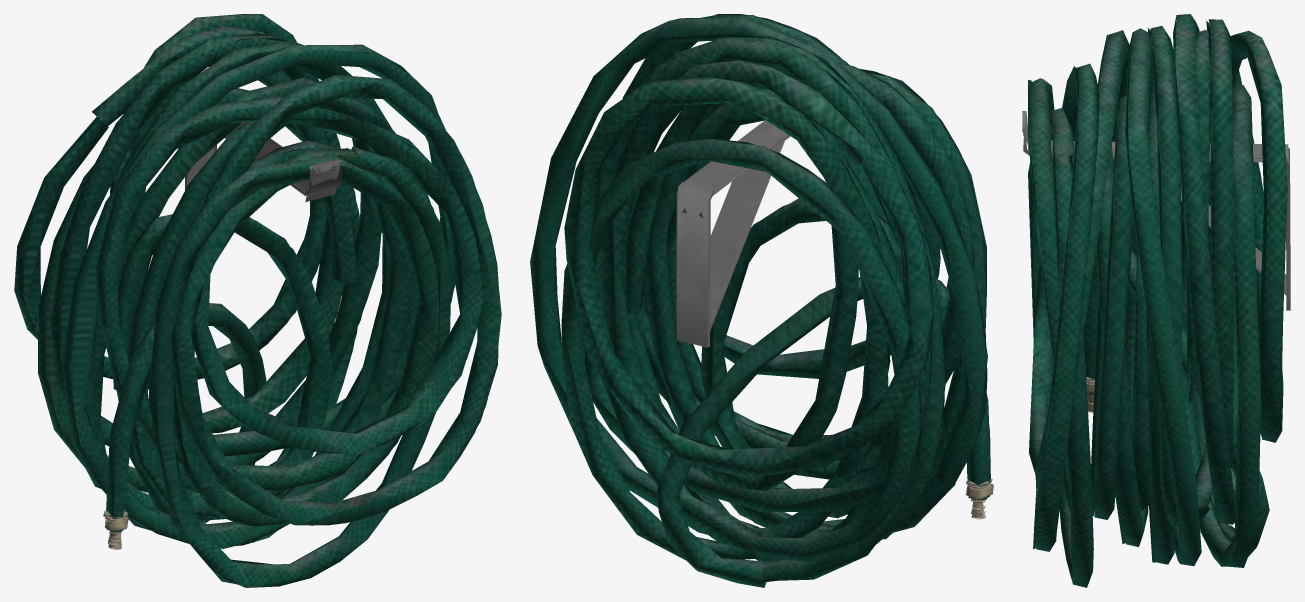
Rendered from garden_hose_wall_mounted_01.glb.
The picture shows the model from 3 angles, left to right: view 1: azimuth 30°, elevation 25°; view 2: azimuth 150°, elevation 25°; view 3: azimuth 270°, elevation 25°; orthographic projection. The views are drawn at different scales.
Visible parts, largest first — view 1: garden_hose, garden_hose_wall_bracket; view 2: garden_hose, garden_hose_wall_bracket; view 3: garden_hose, garden_hose_wall_bracket.
Part boxes in pixels (x1,y1,x2,y2): garden_hose: (14,14,501,587); garden_hose_wall_bracket: (185,122,342,201); garden_hose: (530,14,993,587); garden_hose_wall_bracket: (676,120,790,347); garden_hose: (1028,14,1287,587); garden_hose_wall_bracket: (1022,111,1290,310).
Size of the model in its own units: 0.4684 by 0.558 by 0.2503.
1 material, 1 textured.
